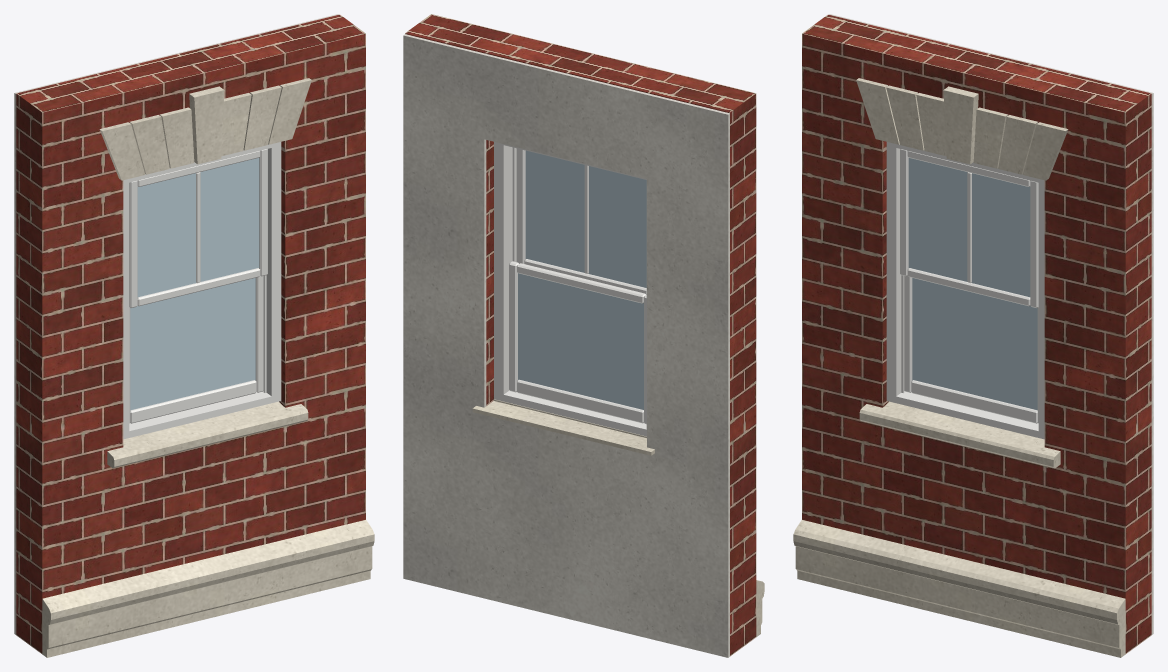
The model's file is u1_wall_window.glb.
3 renders of one model, left to right at view 1: azimuth 30°, elevation 25°; view 2: azimuth 150°, elevation 25°; view 3: azimuth 330°, elevation 25°, orthographic.
Parts seen in each view (by area): view 1: u1_wall_window_brick, u1_wall_window_trim, u1_wall_window_glass, u1_wall_window_frame, u1_wall_window_sash, u1_wall_window_plaster; view 2: u1_wall_window_plaster, u1_wall_window_glass, u1_wall_window_brick, u1_wall_window_sash, u1_wall_window_frame, u1_wall_window_trim; view 3: u1_wall_window_brick, u1_wall_window_trim, u1_wall_window_glass, u1_wall_window_frame, u1_wall_window_sash, u1_wall_window_plaster.
Boxes of the visible parts, x1=… form: u1_wall_window_brick: x1=16, y1=14, x2=365, y2=653; u1_wall_window_trim: x1=42, y1=78, x2=374, y2=657; u1_wall_window_glass: x1=130, y1=158, x2=259, y2=410; u1_wall_window_frame: x1=123, y1=142, x2=281, y2=439; u1_wall_window_sash: x1=129, y1=149, x2=267, y2=423; u1_wall_window_plaster: x1=14, y1=14, x2=338, y2=634; u1_wall_window_plaster: x1=403, y1=34, x2=729, y2=657; u1_wall_window_glass: x1=518, y1=150, x2=646, y2=409; u1_wall_window_brick: x1=405, y1=14, x2=756, y2=656; u1_wall_window_sash: x1=509, y1=148, x2=646, y2=424; u1_wall_window_frame: x1=494, y1=142, x2=646, y2=436; u1_wall_window_trim: x1=472, y1=399, x2=764, y2=636; u1_wall_window_brick: x1=802, y1=14, x2=1151, y2=653; u1_wall_window_trim: x1=793, y1=78, x2=1125, y2=657; u1_wall_window_glass: x1=908, y1=158, x2=1037, y2=410; u1_wall_window_frame: x1=886, y1=142, x2=1044, y2=439; u1_wall_window_sash: x1=900, y1=149, x2=1038, y2=423; u1_wall_window_plaster: x1=829, y1=14, x2=1153, y2=634.
Size of the model in its own units: 2 by 3.2 by 0.43.
6 materials, 3 textured.
